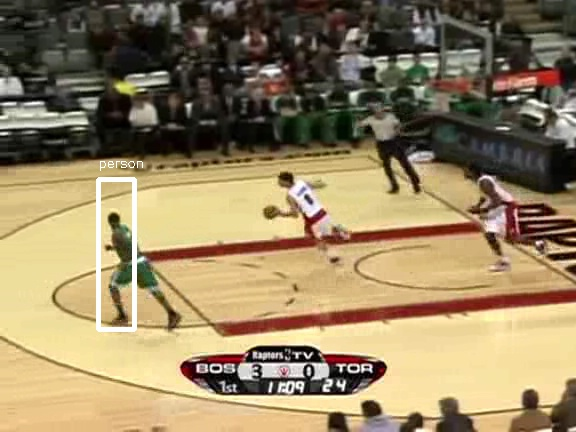person: (111, 220, 145, 301), (110, 220, 144, 301), (112, 220, 146, 301), (111, 219, 145, 300), (111, 221, 145, 302)
target_negative: (160, 283, 230, 389), (117, 152, 295, 191), (532, 191, 568, 333), (31, 5, 40, 288), (463, 308, 510, 334), (443, 8, 521, 19)
